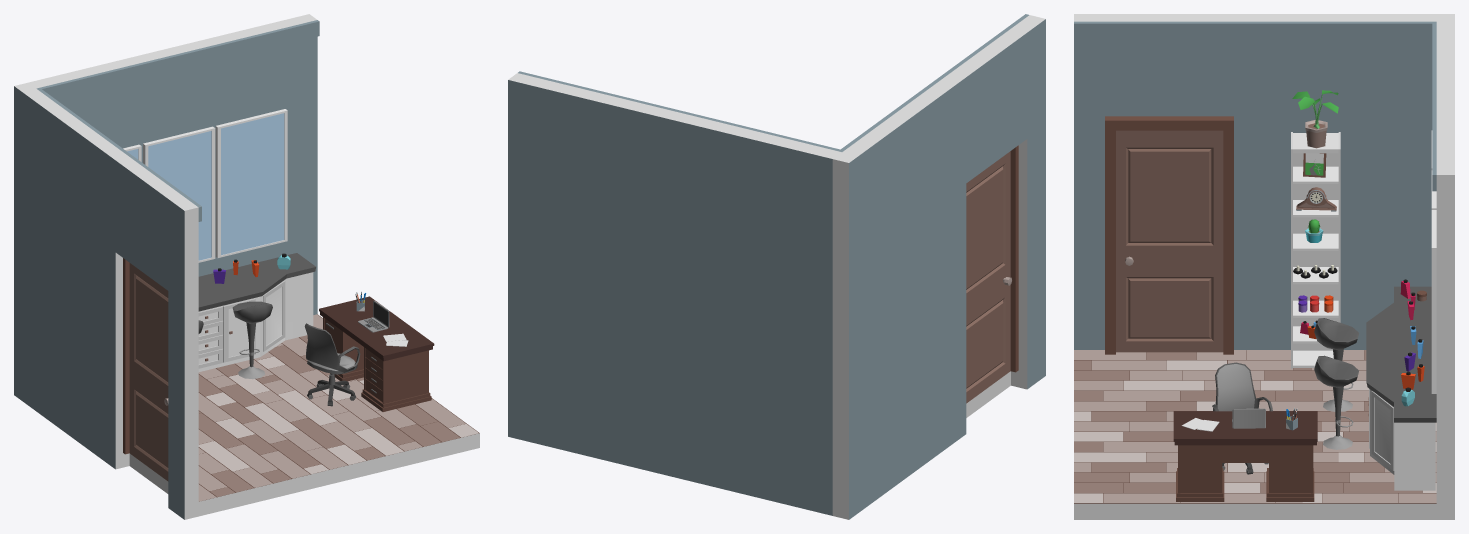
The model's file is room_8.glb.
The picture shows the model from 3 angles, left to right: view 1: azimuth 30°, elevation 25°; view 2: azimuth 150°, elevation 25°; view 3: azimuth 270°, elevation 25°; orthographic projection. The views are drawn at different scales.
Parts seen in each view (by area): view 1: Walls_116.007, Walls_116.006, floor_018.002, Walls_116.008, picture_054.003, kitchen_table_019.001, door_009.001, office_table_005.001, Walls_056.003, Walls_116.009, picture_054.002, Walls_111.001 (+5 smaller); view 2: Walls_116.006, Walls_116.007, door_009.001, Walls_116.008, Walls_116.009, door_010.001, Walls_111.001, Walls_111.002, Walls_056.003; view 3: Walls_116.007, floor_018.002, door_009.001, kitchen_table_019.001, Walls_116.008, office_table_005.001, Walls_116.009, Walls_116.006, Walls_056.003, shelf_053.003, door_010.001, Walls_111.002 (+9 smaller).
Part boxes in pixels (box(x1,y1,x2,y2)): Walls_116.007: box(14, 82, 129, 469); Walls_116.006: box(28, 14, 317, 314); floor_018.002: box(198, 314, 478, 501); Walls_116.008: box(168, 195, 198, 519); picture_054.003: box(215, 109, 287, 257); kitchen_table_019.001: box(198, 253, 315, 371); door_009.001: box(129, 263, 168, 481); office_table_005.001: box(319, 296, 434, 411); Walls_056.003: box(129, 314, 479, 516); Walls_116.009: box(115, 157, 181, 290); picture_054.002: box(143, 126, 215, 262); Walls_111.001: box(36, 20, 319, 99); Walls_116.006: box(508, 73, 841, 515); Walls_116.007: box(832, 73, 966, 519); door_009.001: box(966, 151, 1011, 403); Walls_116.008: box(1011, 15, 1045, 389); Walls_116.009: box(950, 29, 1027, 182); door_010.001: box(1010, 145, 1018, 372); Walls_111.001: box(518, 71, 843, 151); Walls_111.002: box(841, 14, 1028, 150); Walls_056.003: box(966, 371, 1010, 417); Walls_116.007: box(1228, 14, 1454, 349); floor_018.002: box(1074, 350, 1436, 502); door_009.001: box(1116, 130, 1223, 352); kitchen_table_019.001: box(1366, 286, 1436, 490); Walls_116.008: box(1074, 14, 1110, 349); office_table_005.001: box(1173, 411, 1317, 501); Walls_116.009: box(1110, 14, 1228, 116); Walls_116.006: box(1436, 21, 1454, 519); Walls_056.003: box(1074, 350, 1436, 519); shelf_053.003: box(1291, 132, 1340, 368); door_010.001: box(1105, 116, 1233, 354); Walls_111.002: box(1074, 21, 1432, 39).
Bounding box in the file's own units: 4.2 × 4.2 × 4.2.
1 material, 1 textured.
